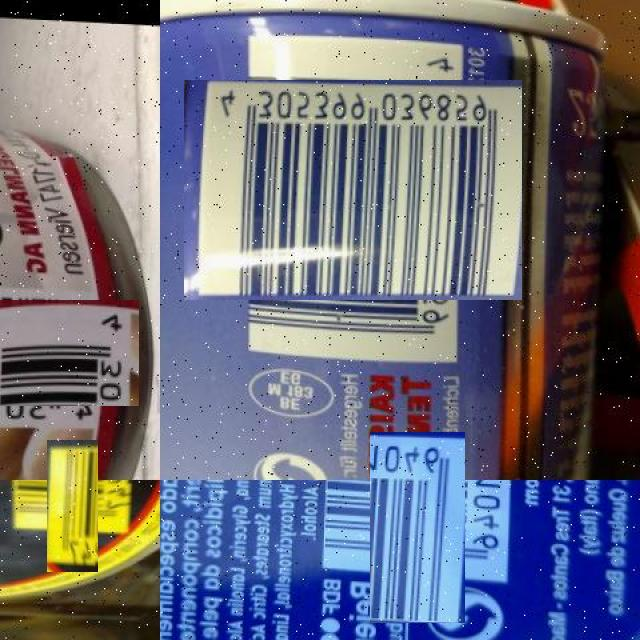Barcode: (214, 50, 493, 330), (346, 456, 489, 599), (0, 282, 123, 422), (27, 460, 118, 552)
